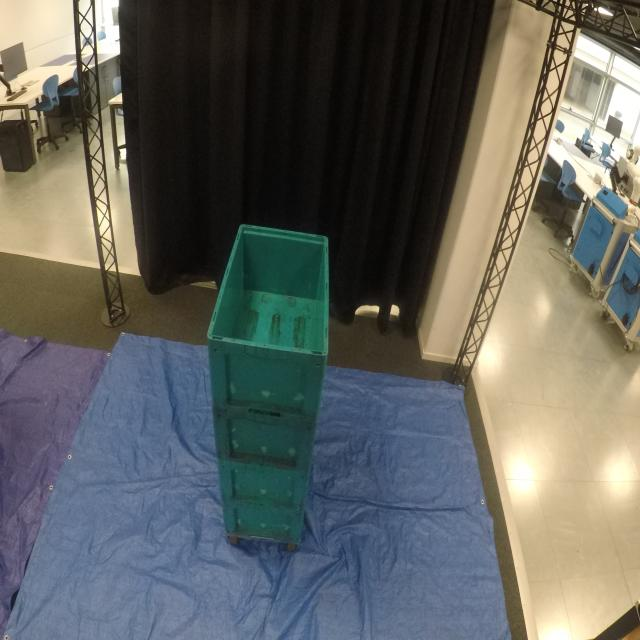BoxB4: (203, 218, 332, 412), (209, 404, 319, 472), (212, 452, 314, 513), (213, 492, 308, 548)
